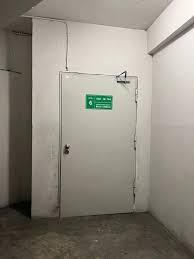exit: (60, 73, 137, 217)
